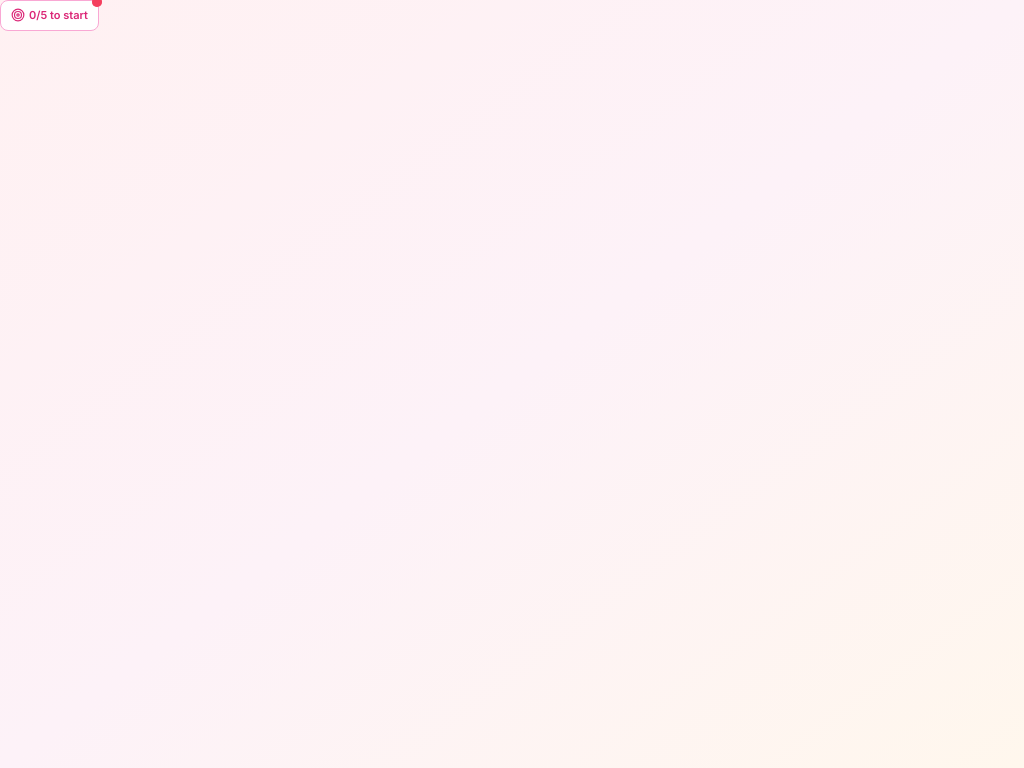
Scenario: objectives button › lists the core five in words, says the rest unlock after them, and a tap goes where you do it
Later steps or results of the test are not shown.
Step 1. Click the button with aria-label "0 of 5" → (50,15), box [0, 0, 99, 30]
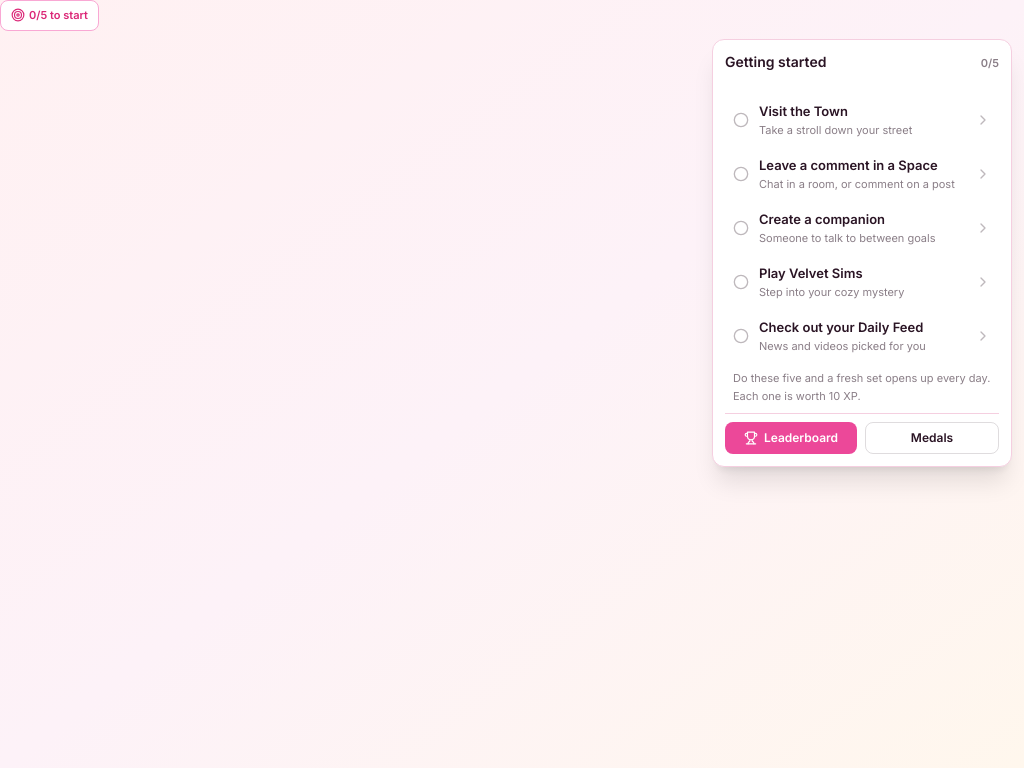
expect the text "Getting started" is shown: met, box [725, 52, 826, 72]
expect the text "Visit the Town" is shown: met, box [759, 103, 848, 119]
expect the text "Leave a comment in a Space" is shown: met, box [759, 156, 965, 176]
